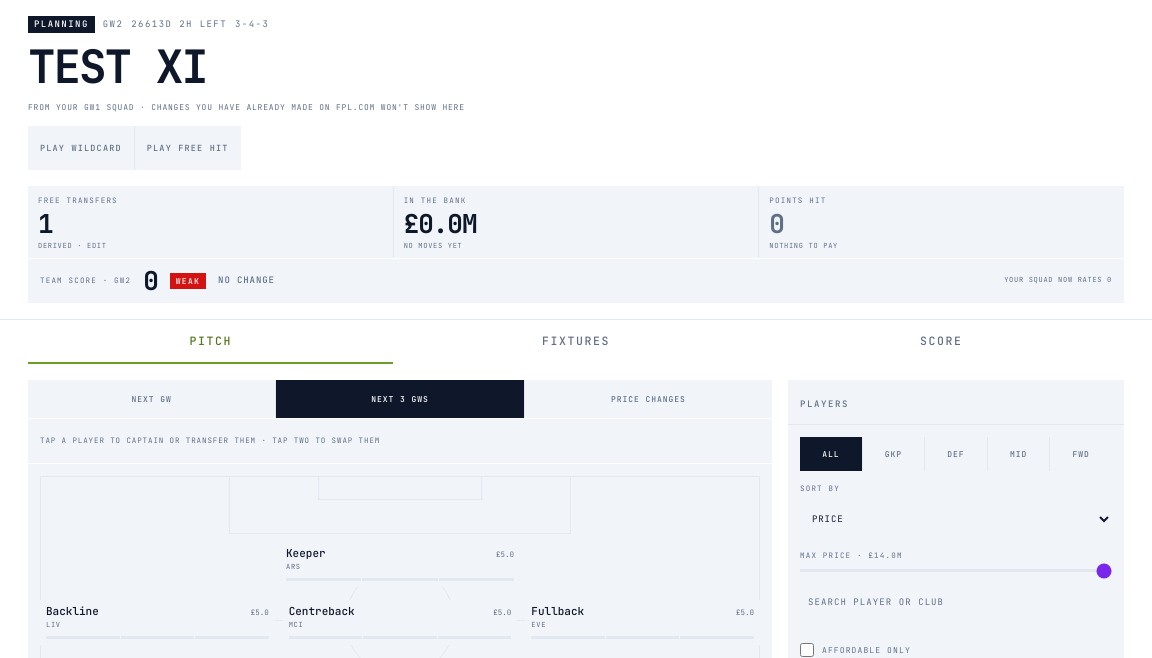
it: when fixtures cannot be loaded › says so on the fixtures tab rather than drawing fifteen false blanks
This screenshot has width=1152, height=658.
Expected: the button "Keeper £5.0 ARS" is shown, left=280, top=542, right=520, bottom=587
Click the button "FIXTURES": click(576, 342) left=393, top=320, right=759, bottom=364
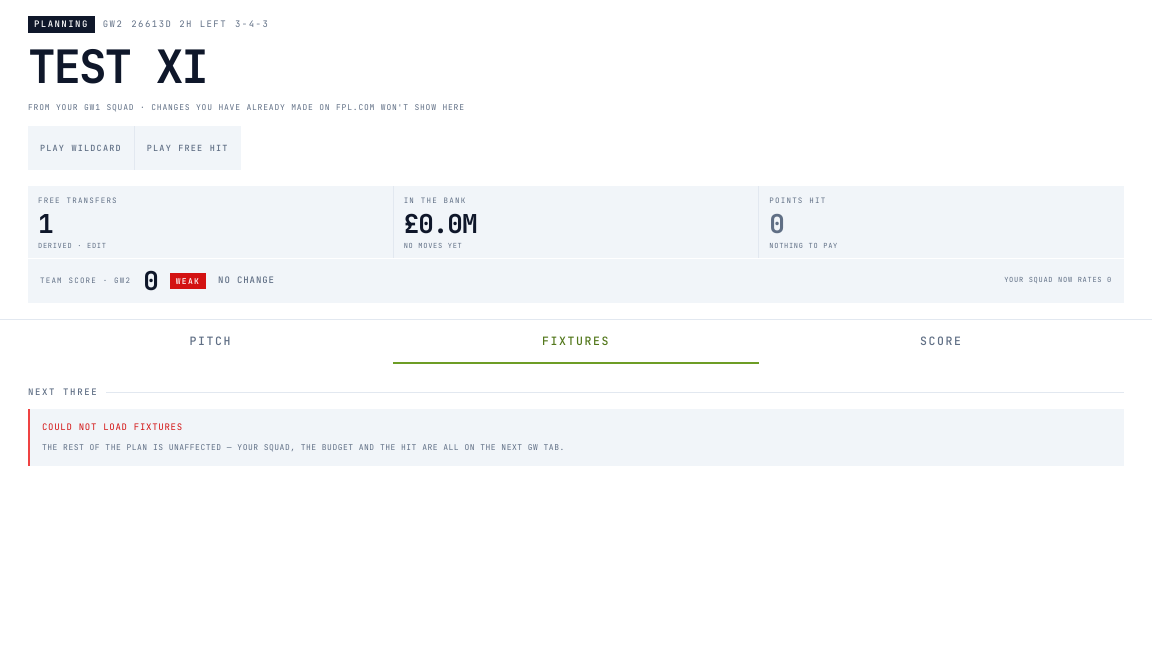
Expected: the text "COULD NOT LOAD FIXTURES" is shown, left=42, top=421, right=183, bottom=433
